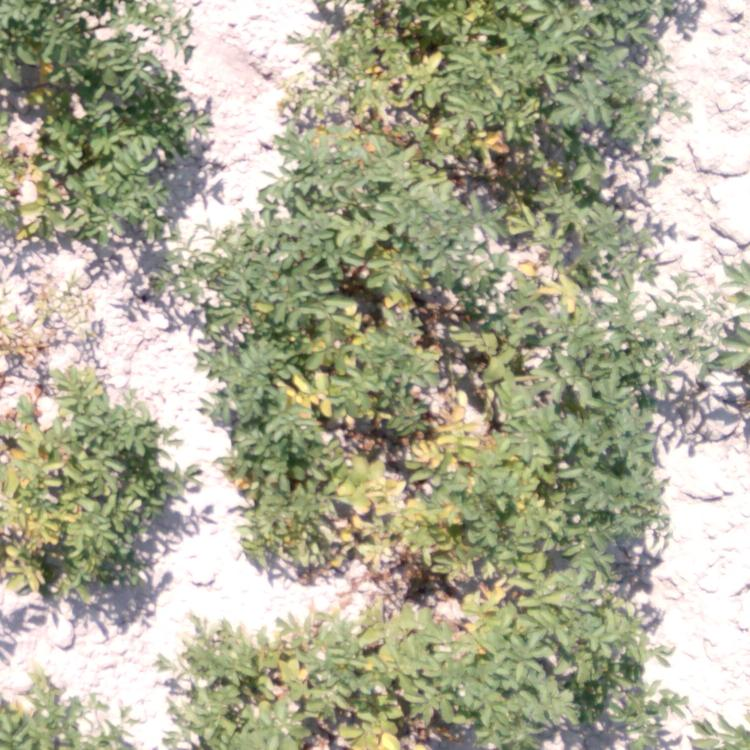healthy: (576, 262, 741, 411), (567, 1, 678, 169), (565, 413, 672, 580), (93, 56, 168, 236), (1, 1, 163, 55), (579, 171, 674, 262), (676, 717, 750, 750)
stressed: (243, 394, 568, 583), (395, 585, 667, 750), (359, 1, 568, 174), (1, 374, 167, 591), (262, 177, 423, 394), (429, 175, 580, 381), (188, 616, 391, 750), (1, 56, 90, 233), (190, 211, 264, 390), (280, 20, 353, 173), (1, 678, 127, 750)
